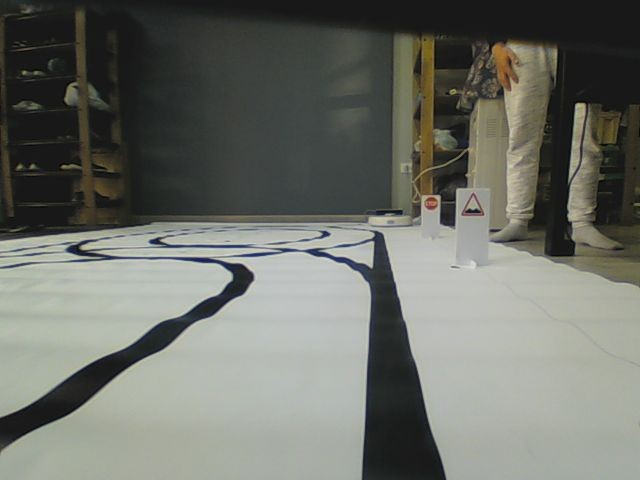Nerov: (460, 191, 486, 218)
